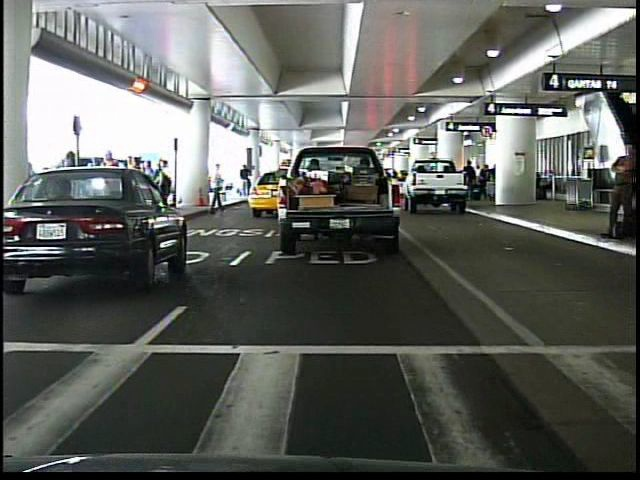person: (602, 139, 638, 248), (96, 149, 123, 226), (205, 158, 228, 215), (238, 162, 256, 196)
